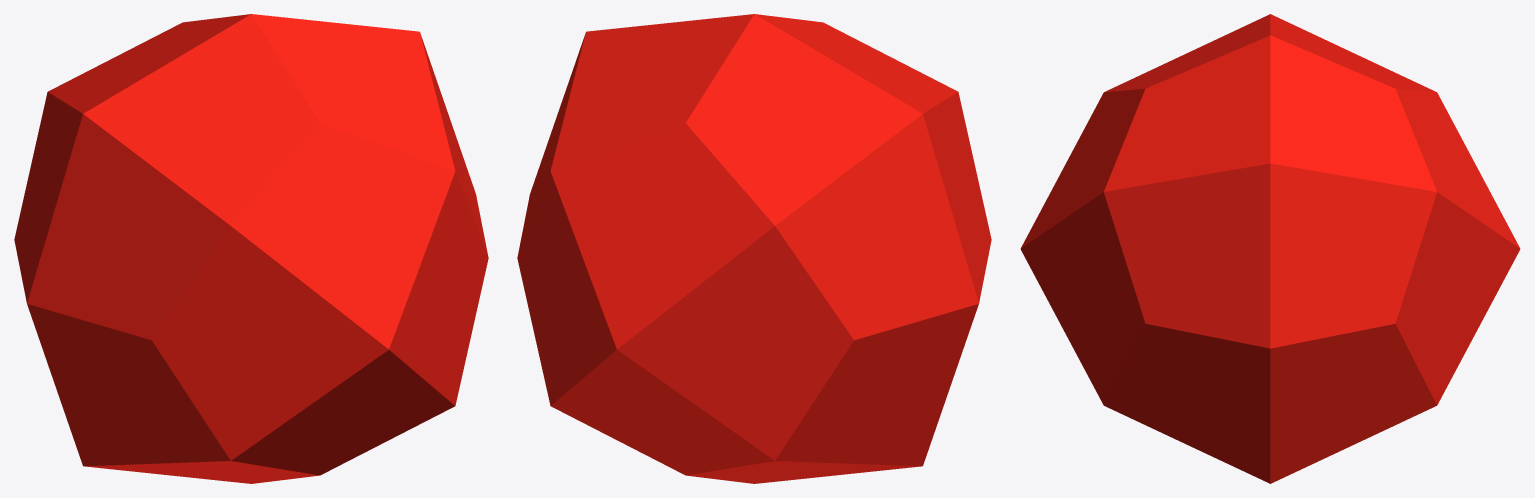
Rendered from skpfile.dae.
The picture shows the model from 3 angles, left to right: view 1: azimuth 30°, elevation 25°; view 2: azimuth 150°, elevation 25°; view 3: azimuth 270°, elevation 25°; orthographic projection. The views are drawn at different scales.
Parts seen in each view (by area): view 1: Diamond_icositetrahedron; view 2: Diamond_icositetrahedron; view 3: Diamond_icositetrahedron.
Part boxes in pixels (x1,y1,x2,y2): Diamond_icositetrahedron: (14,14,488,483); Diamond_icositetrahedron: (517,14,991,483); Diamond_icositetrahedron: (1020,14,1520,483).
Size of the model in its own units: 9194 by 9752 by 9194.
